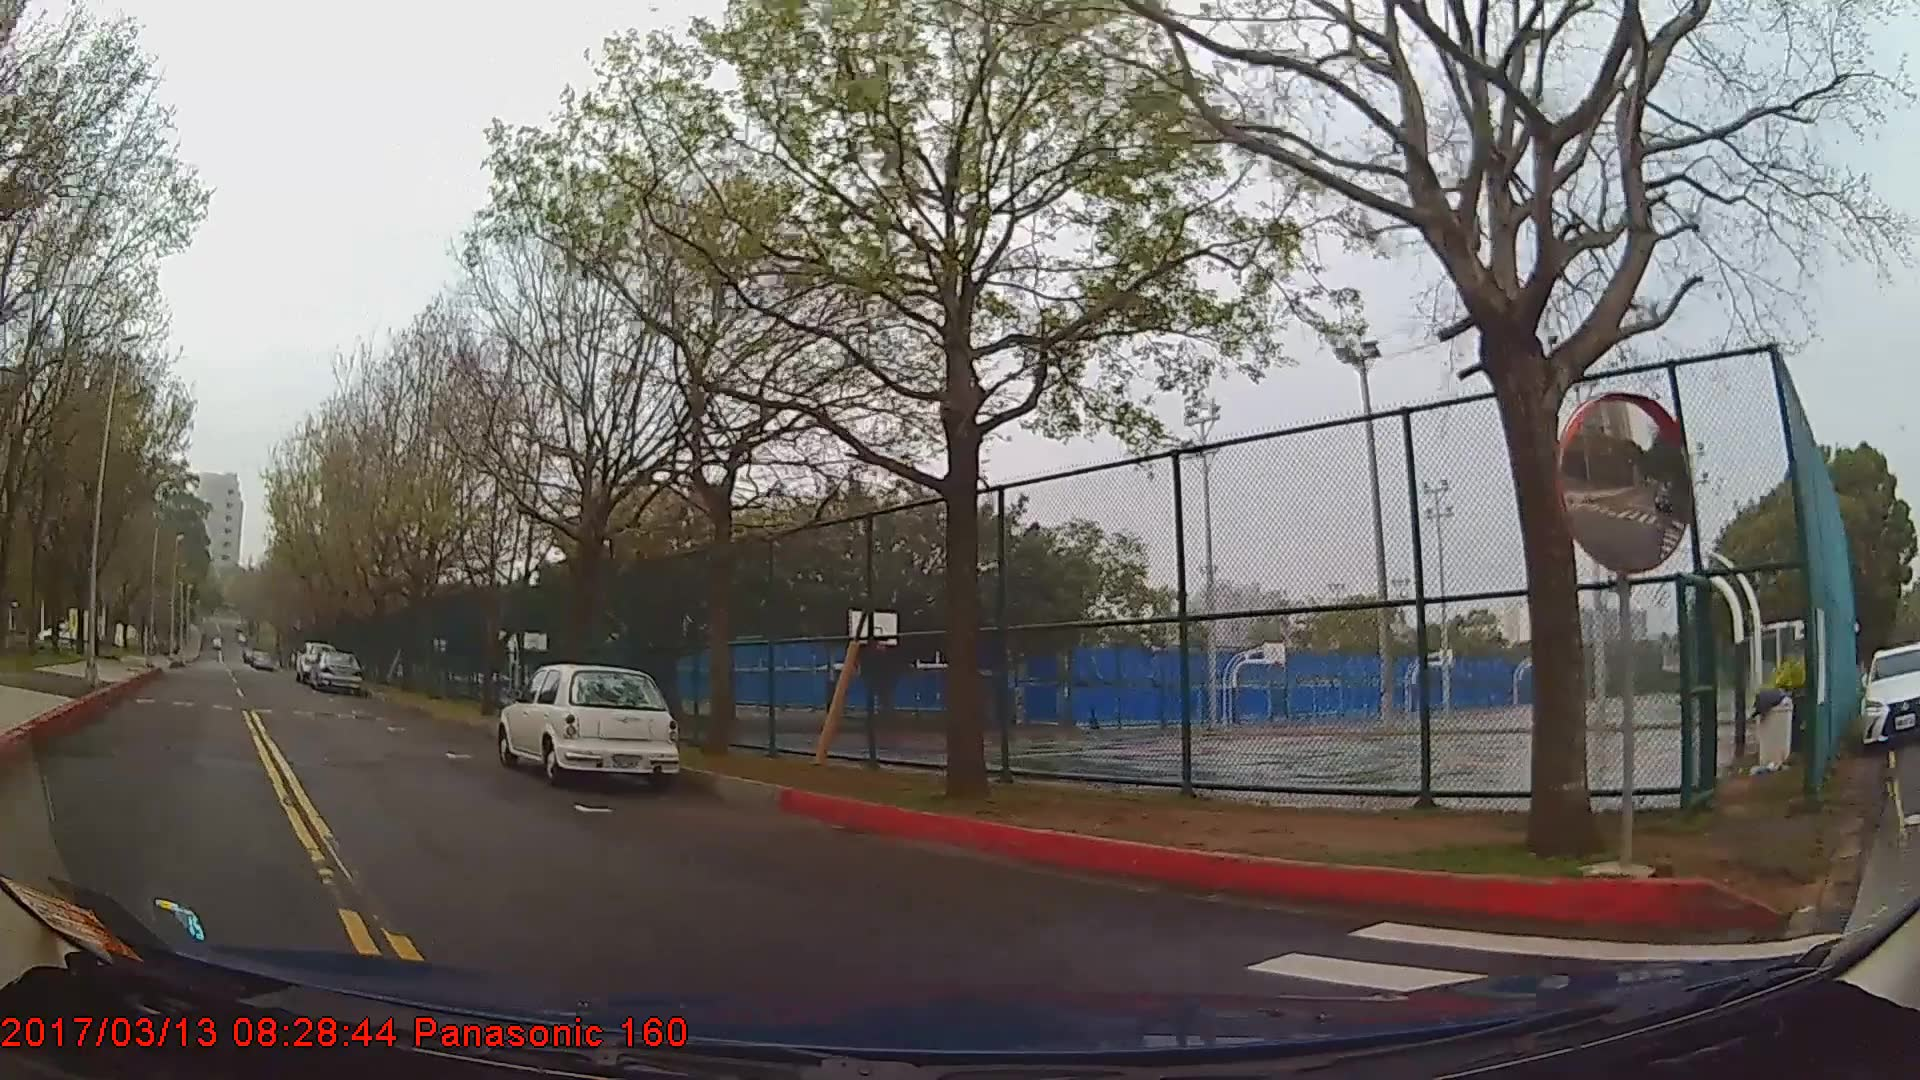vehicle: (498, 662, 680, 783), (1851, 636, 1917, 749), (309, 649, 363, 692)
